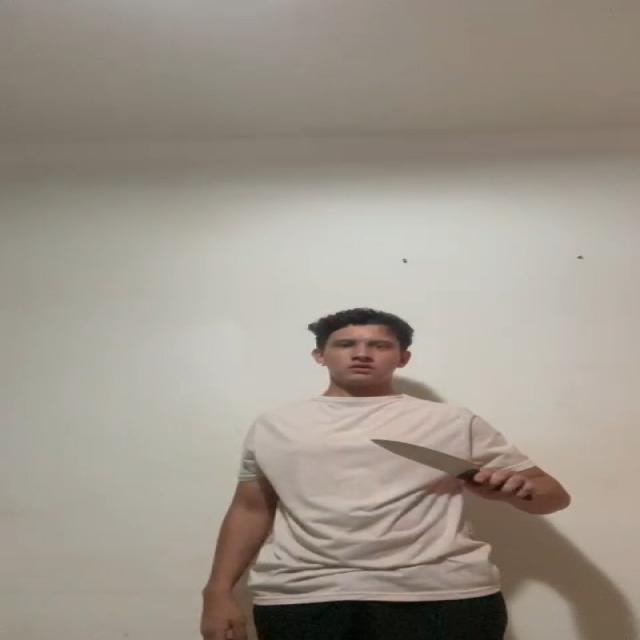knife: (374, 436, 484, 476)
